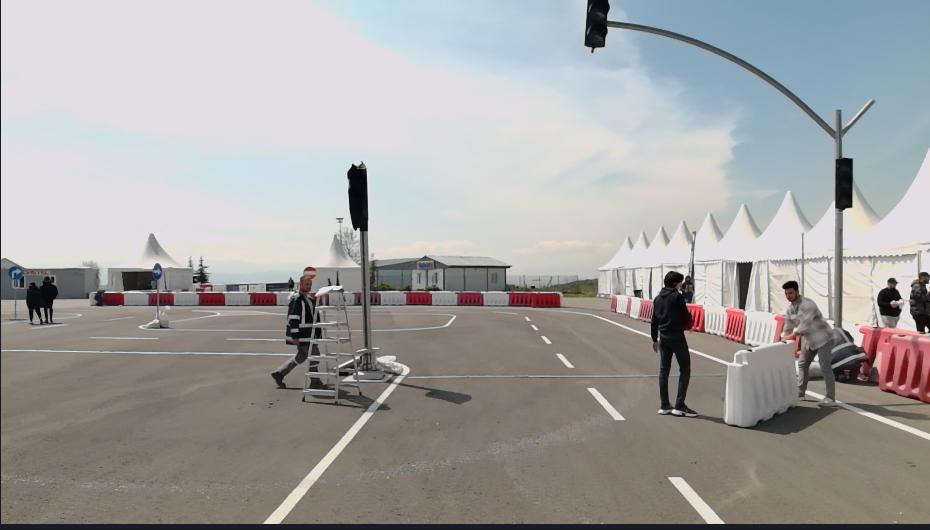nesne: (263, 306, 928, 526), (263, 305, 723, 525), (518, 308, 928, 524), (263, 358, 410, 524), (721, 337, 800, 428), (269, 277, 330, 393), (650, 270, 698, 417), (781, 281, 836, 403), (303, 289, 361, 400), (859, 324, 928, 405), (684, 303, 784, 346), (832, 398, 928, 442), (94, 290, 292, 306), (369, 290, 564, 306), (666, 474, 724, 523), (0, 347, 297, 356), (831, 327, 870, 381), (584, 312, 650, 338), (374, 311, 456, 330), (876, 275, 904, 330), (587, 386, 625, 422), (609, 294, 656, 322), (907, 268, 928, 329), (746, 312, 776, 345), (39, 271, 58, 323), (25, 282, 46, 325), (723, 306, 746, 342), (689, 346, 729, 366), (508, 291, 560, 306), (704, 306, 727, 337), (144, 304, 172, 329), (221, 334, 285, 343), (683, 305, 704, 332), (429, 290, 456, 306), (198, 291, 225, 306), (457, 290, 483, 305), (84, 334, 157, 339), (482, 292, 510, 305), (250, 292, 277, 305), (406, 290, 431, 304), (122, 291, 148, 304), (628, 297, 644, 318), (225, 292, 249, 305), (380, 292, 406, 304), (555, 352, 574, 368), (613, 295, 629, 314), (148, 293, 173, 305), (173, 293, 198, 305), (7, 264, 25, 280), (682, 274, 693, 299), (640, 299, 653, 320), (276, 291, 293, 305), (104, 291, 122, 304), (151, 262, 164, 279), (303, 266, 316, 280), (95, 290, 105, 304), (344, 292, 354, 306), (539, 334, 552, 344), (609, 296, 618, 310), (371, 292, 380, 305), (530, 321, 539, 328), (354, 293, 359, 304)
